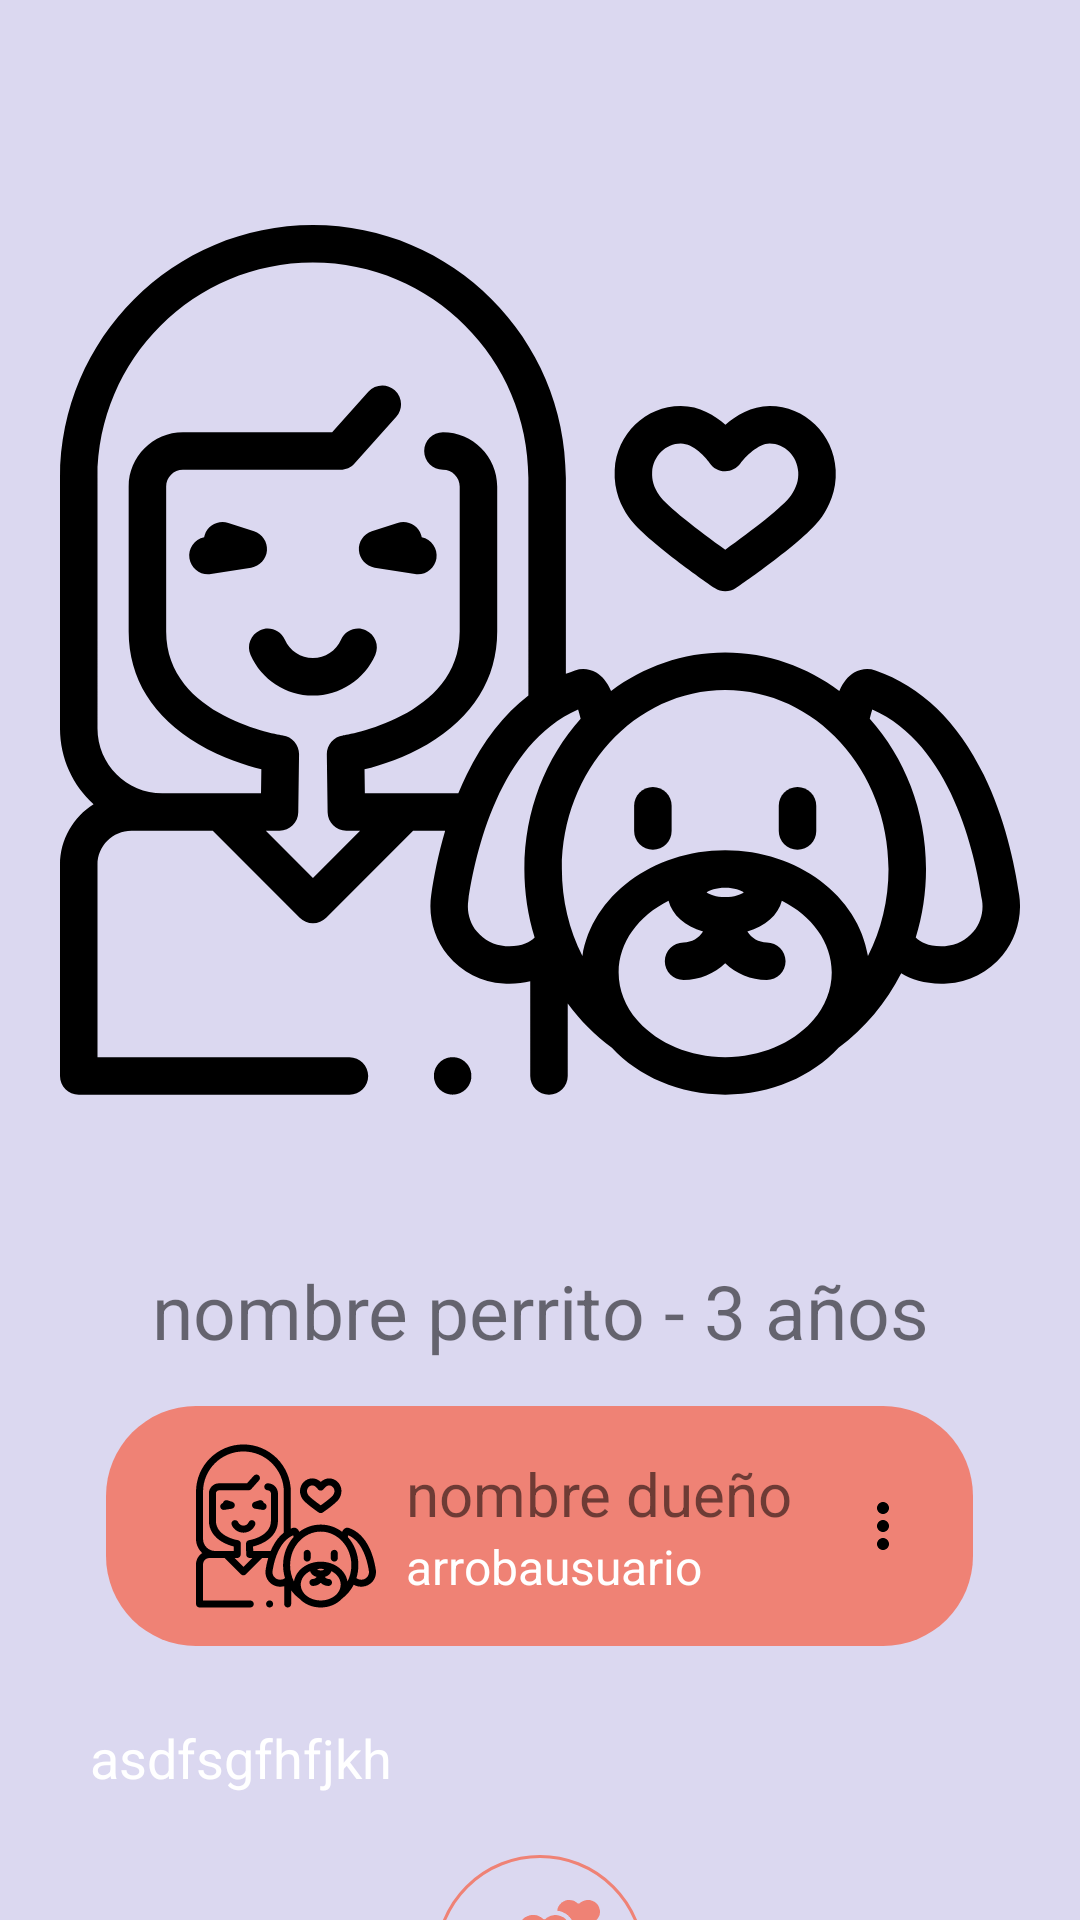

Where to tap for icons on this 1080 x 1920 app screen, as [x,y]:
more: [883,1526]
